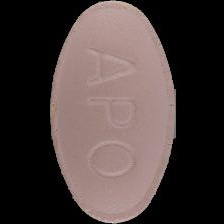60505-3140: (0, 0, 224, 224)
